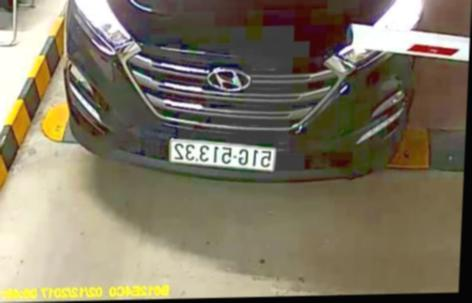License_Plate: (164, 136, 281, 170)
